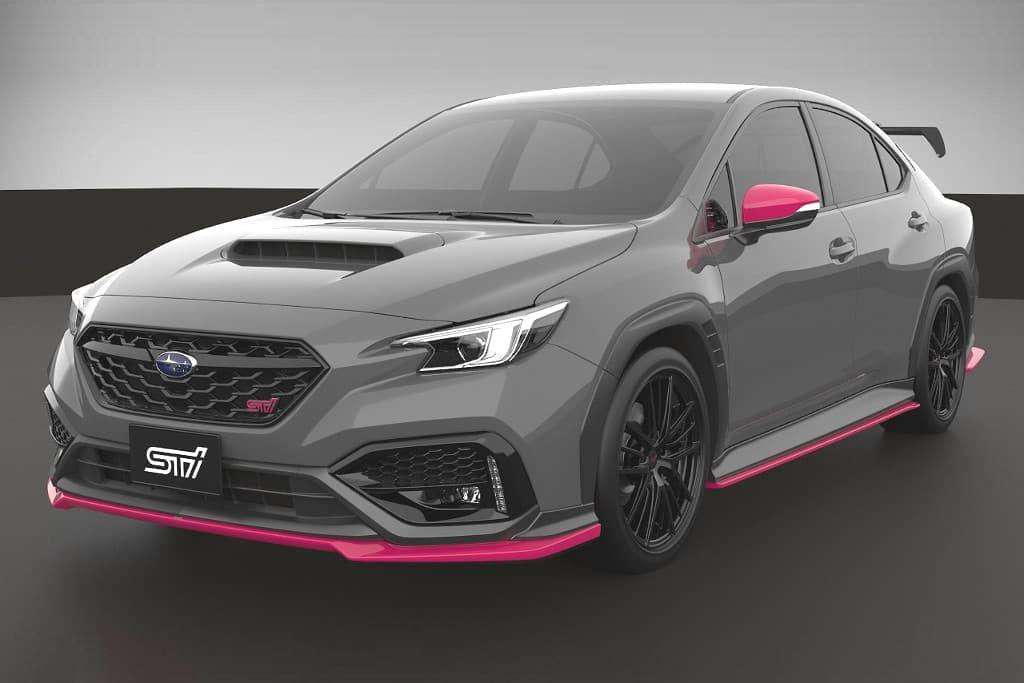subaru: (149, 343, 203, 384)
